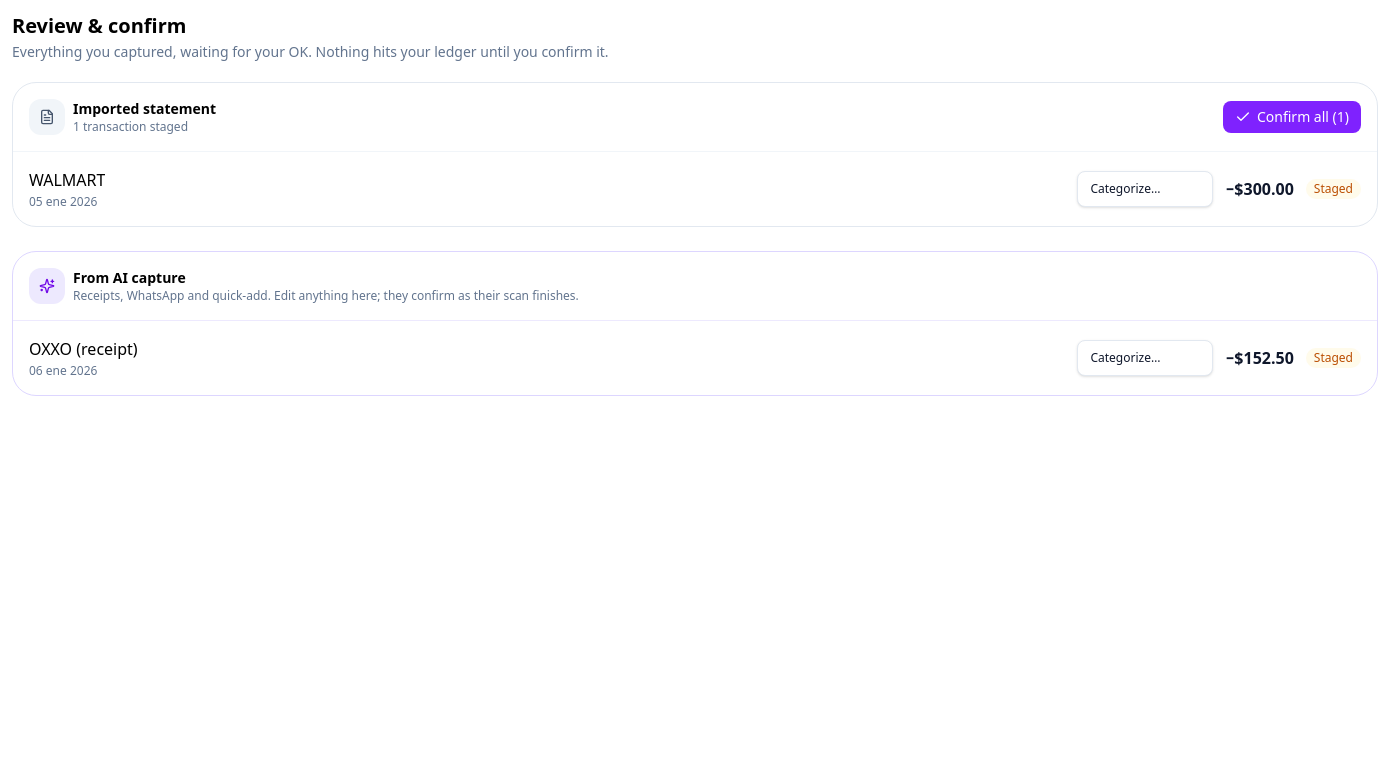
Test: Review queue — grouped staging + statement-batch confirm › confirms a statement batch and optimistically drops its rows
expect the text "WALMART" is shown: met, box [29,168,105,192]
Click the button "Confirm all (1)": (1292, 117) [1223,101,1361,133]
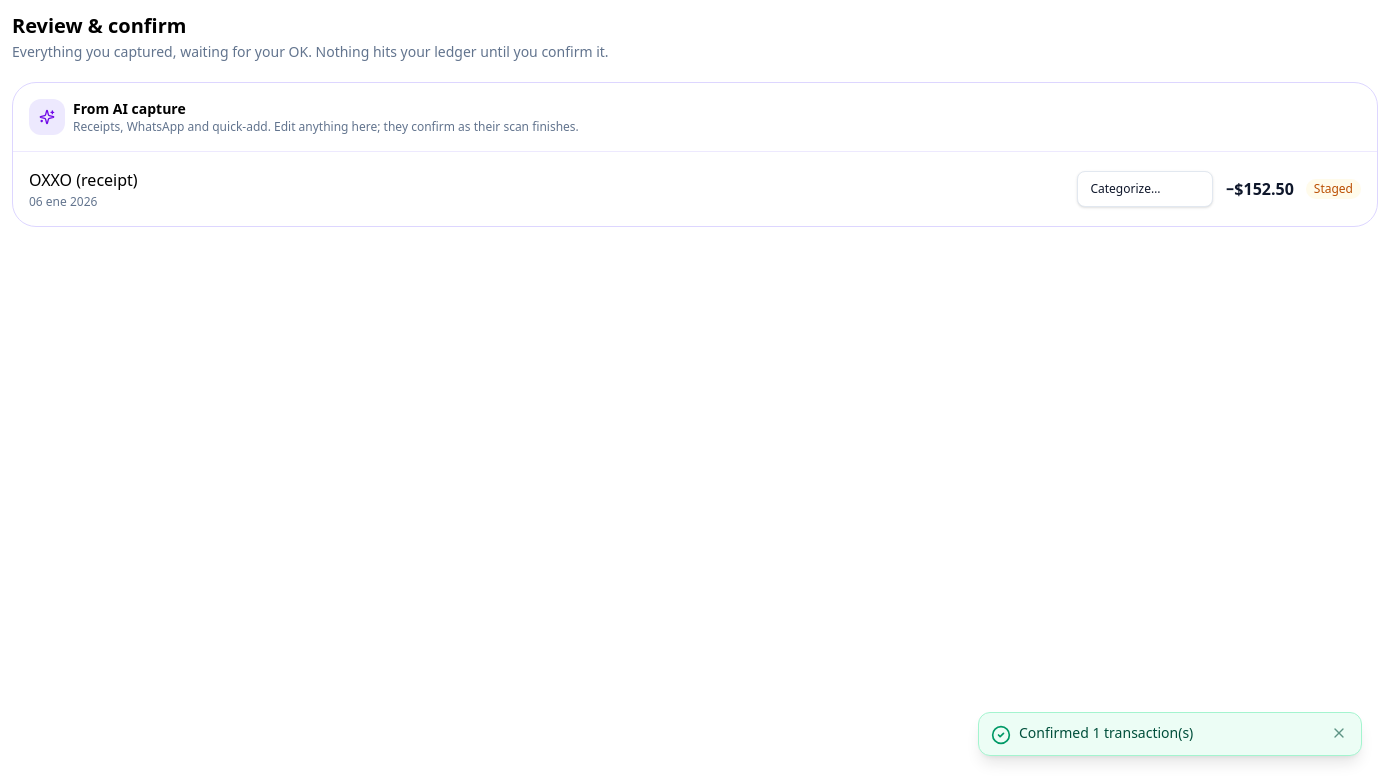
expect the text "OXXO (receipt)" is shown: met, box [29,168,138,192]
expect the button "WALMART" is gone: met
